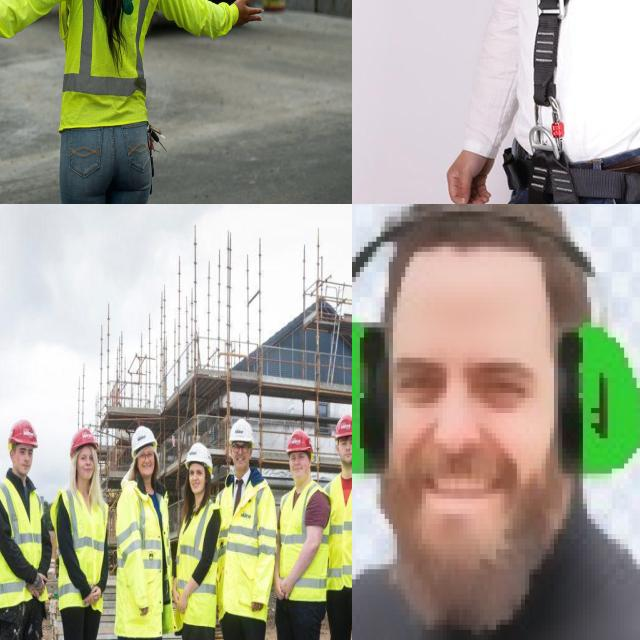Ear-protection: (352, 204, 640, 640), (352, 204, 640, 485)
Harness: (505, 0, 636, 204)
face_nomask: (8, 443, 34, 480), (134, 447, 162, 477), (74, 450, 96, 484), (232, 442, 254, 474), (288, 454, 312, 482), (188, 461, 208, 493), (339, 436, 352, 468)
glasses: (230, 442, 252, 456), (136, 449, 154, 465)
hand_noglove: (225, 0, 269, 35), (172, 578, 194, 619), (25, 570, 50, 604), (272, 574, 298, 606), (84, 583, 103, 607)
head_helmet: (9, 420, 37, 448), (186, 442, 213, 471), (130, 425, 158, 451), (70, 427, 99, 452), (228, 417, 252, 445), (287, 429, 312, 452), (334, 413, 352, 440)
person: (52, 0, 157, 204), (0, 417, 57, 640), (114, 424, 172, 640), (220, 419, 274, 640), (54, 428, 109, 640), (277, 430, 328, 640), (175, 440, 218, 640), (324, 413, 352, 640)
vest: (61, 0, 157, 163), (56, 491, 114, 621), (0, 470, 46, 610), (215, 475, 277, 577), (114, 482, 171, 591), (280, 481, 330, 605), (177, 496, 217, 632), (323, 465, 352, 596)
